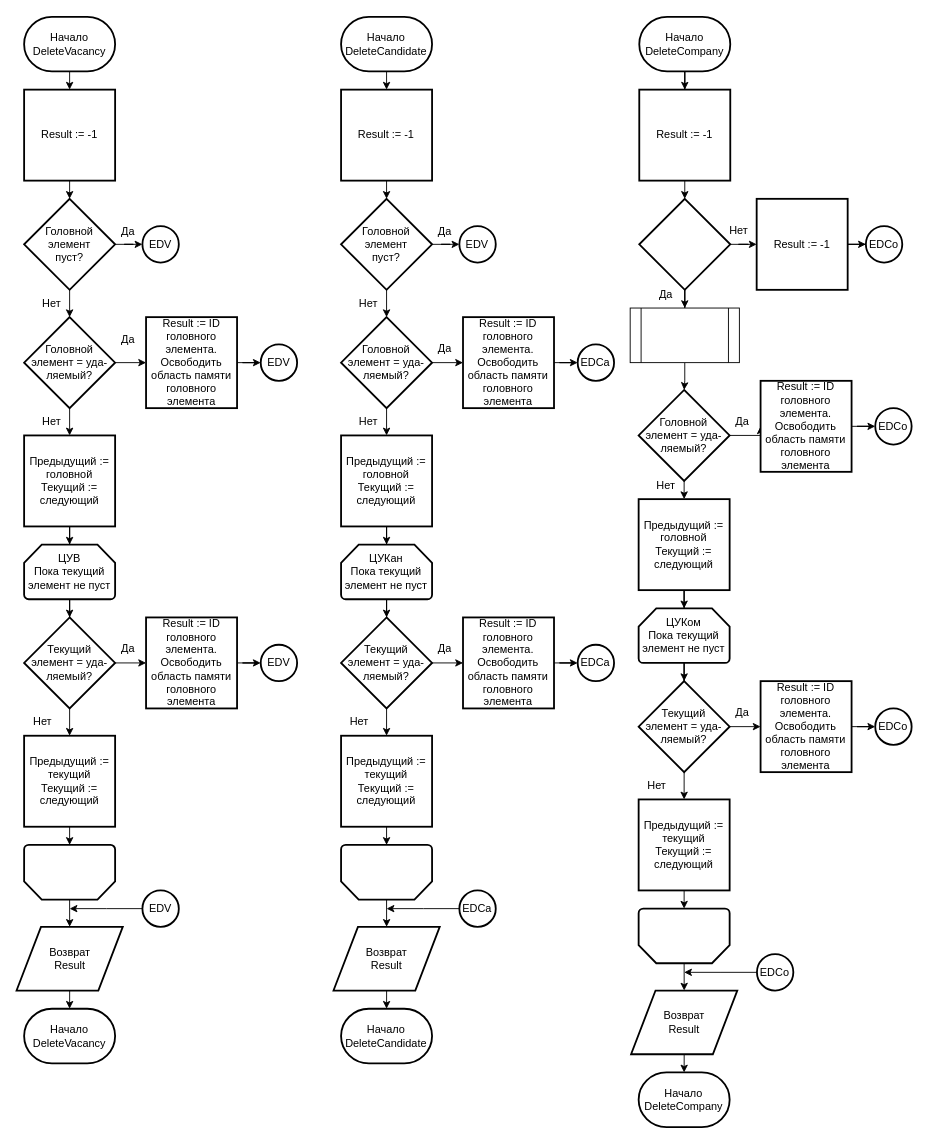
This 928x1143 diagram has some shape labels left out. Here are the shapes that lost their labels. From the top down, the centre of each, then its label:
point 684,243: Компания существует?
point 684,335: DeleteVacancies ByCompany
point 69,872: ЦУВ
point 386,872: ЦУКан
point 683,935: ЦУКом
